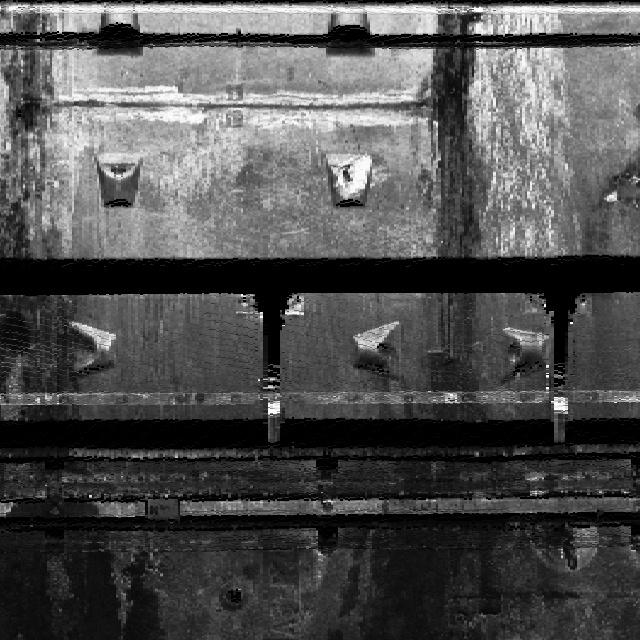leakage: (415, 7, 500, 422), (0, 0, 81, 419), (344, 453, 504, 639), (0, 456, 161, 635)
